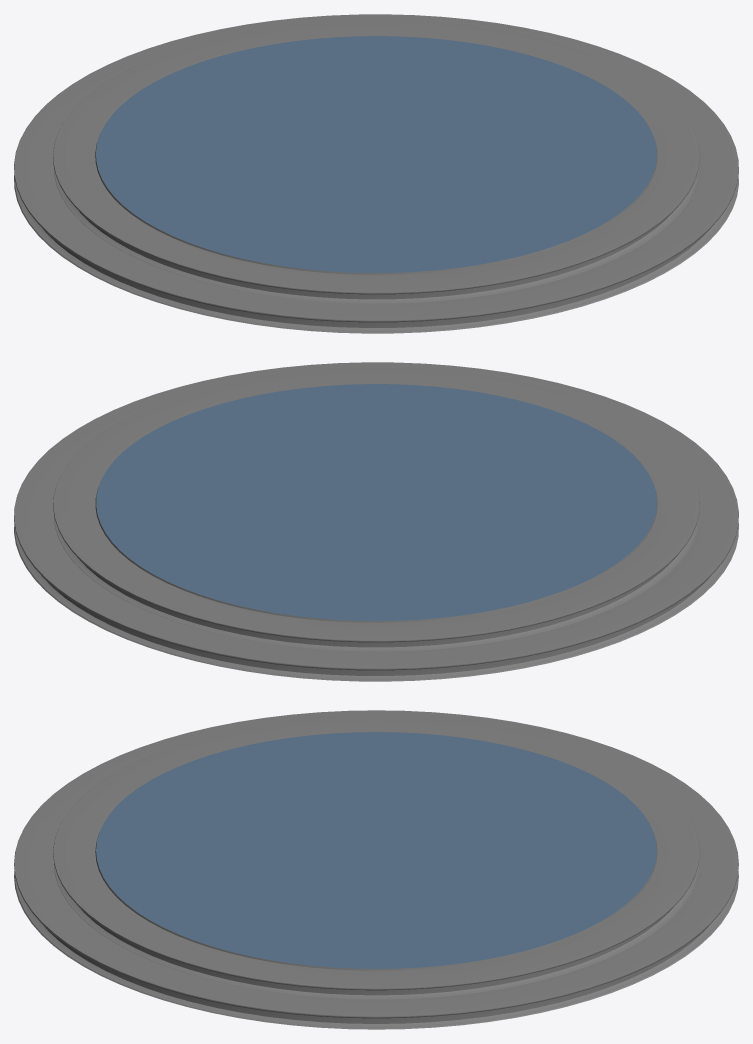
Rendered from SM_Pied.FBX.
3 views of the same model, one above another, from view 1: azimuth 30°, elevation 25°; view 2: azimuth 150°, elevation 25°; view 3: azimuth 270°, elevation 25° (orthographic).
Parts seen in each view (by area): view 1: SM_Pied; view 2: SM_Pied; view 3: SM_Pied.
Boxes of the visible parts, x1,y1,x2,y2 form: SM_Pied: (14,14,738,333); SM_Pied: (14,362,738,681); SM_Pied: (14,710,738,1029).
Bounding box in the file's own units: 606 × 25.07 × 606.
